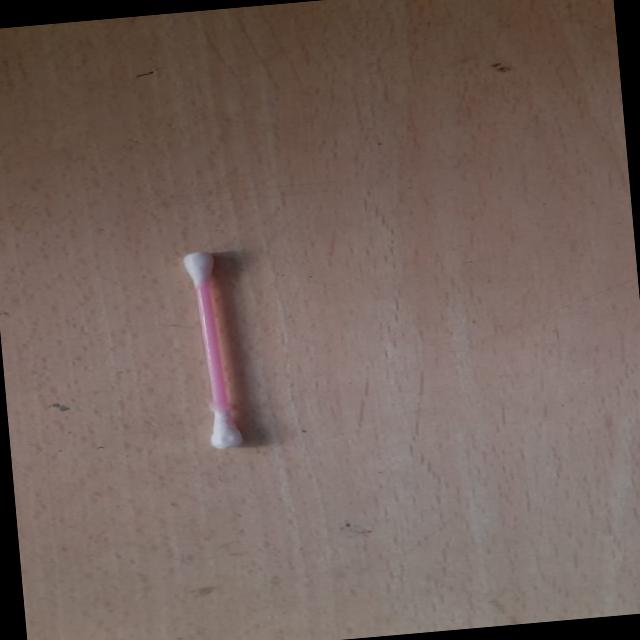Earbud - Non Recyclable: (177, 246, 250, 452)
